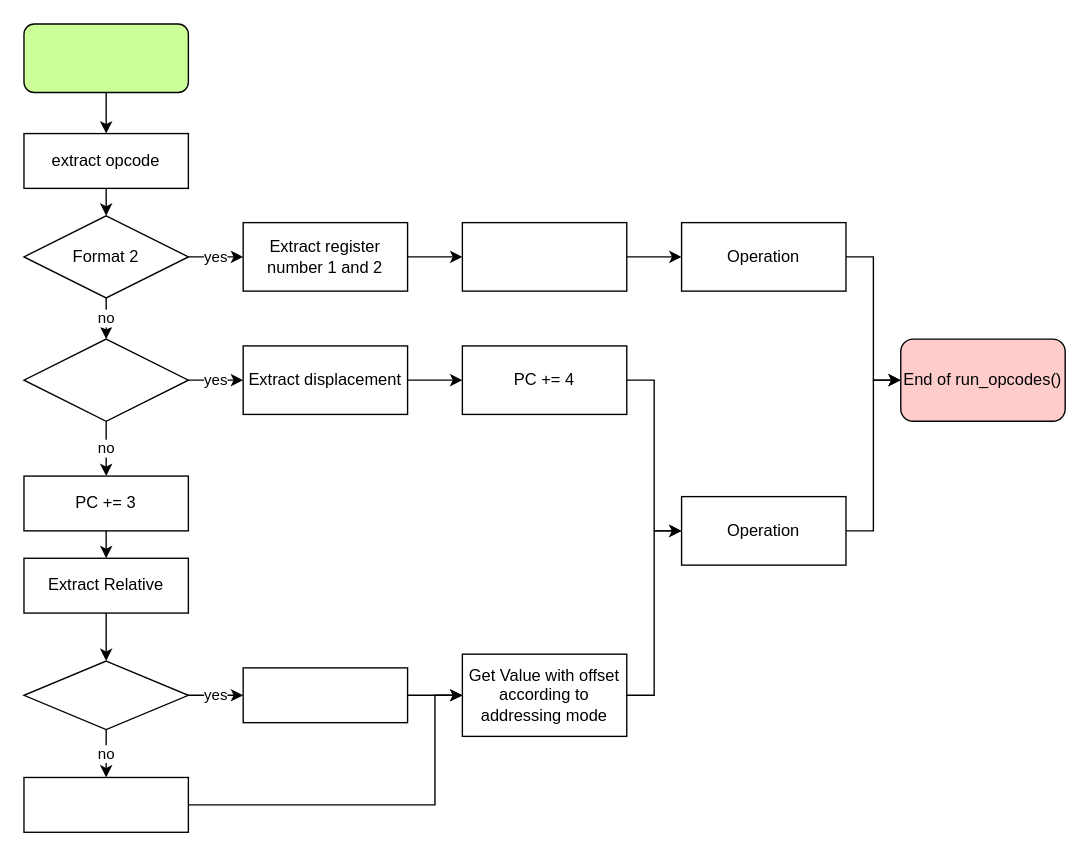
This 1089x856 diagram has some shape labels left out. The shapes that lost their labels are listed below. From the top down, each one's box as (x1, y1, x2, y2) in pixels, then its label:
(23, 23, 188, 92): run_opcodes()
(461, 221, 627, 291): PC += 2
(23, 338, 188, 421): Format 4
(23, 660, 188, 730): Base Relative
(242, 667, 408, 723): offset += BASE
(23, 776, 188, 832): offset += PC
